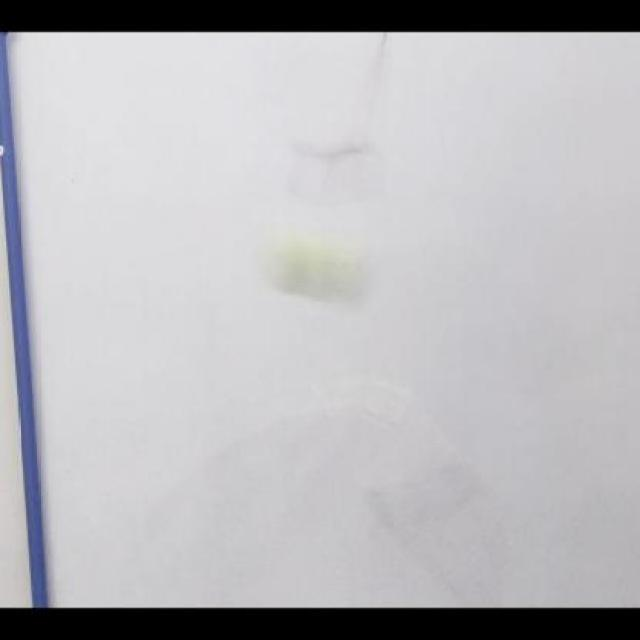baseball: (260, 229, 375, 296)
